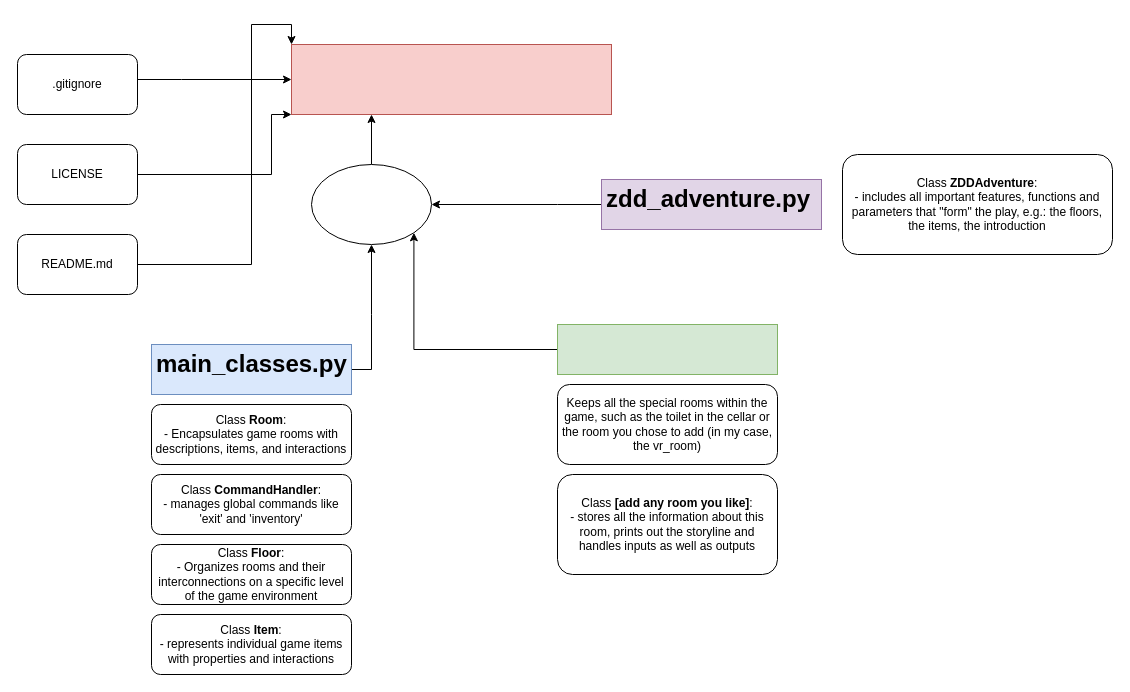
Some shapes in this 1130 by 692 pixel diagram are drawn without their labels. Each missing label, with the centre of its shape:
"folder : adventure" belongs at pixel 371 204.
"zdd_adventure2023" belongs at pixel 451 79.
"zdd_rooms.py" belongs at pixel 667 349.
